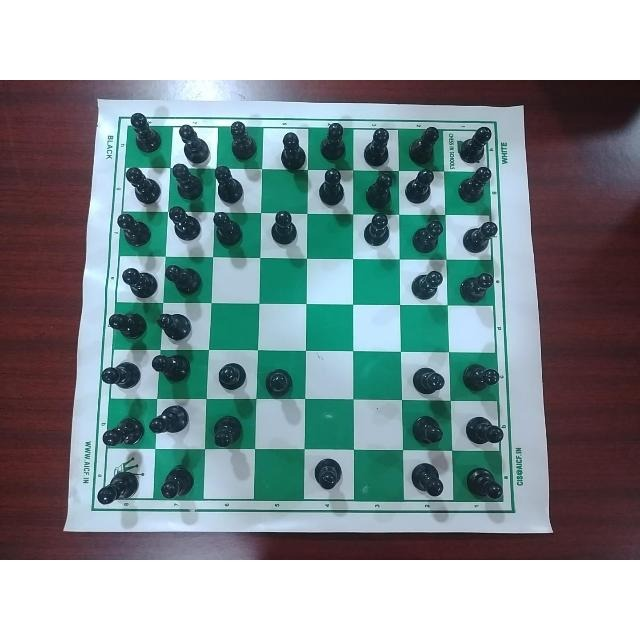black-pawn: (101, 414, 145, 454), (94, 469, 144, 504), (461, 464, 505, 500), (123, 167, 163, 206), (159, 460, 196, 502), (127, 111, 163, 154), (409, 408, 447, 448), (463, 413, 505, 449), (149, 402, 191, 438), (167, 205, 205, 244), (114, 211, 155, 247), (169, 163, 206, 202), (176, 124, 212, 164), (210, 164, 246, 204), (100, 358, 144, 390), (149, 351, 193, 383), (411, 459, 447, 498), (460, 361, 501, 395), (267, 208, 300, 250), (209, 209, 245, 247), (163, 261, 203, 295), (120, 263, 160, 297), (226, 119, 258, 161), (459, 218, 497, 253), (316, 124, 349, 164), (459, 164, 491, 205), (408, 218, 443, 255), (309, 454, 344, 491), (408, 126, 441, 165), (460, 124, 492, 164), (314, 167, 345, 208), (277, 131, 307, 173), (364, 170, 396, 209), (402, 168, 437, 203), (411, 364, 447, 398), (212, 410, 245, 447), (158, 309, 194, 342), (107, 311, 149, 339), (460, 269, 494, 303), (410, 267, 443, 301), (264, 364, 296, 399), (362, 212, 392, 249), (363, 126, 391, 165), (215, 360, 250, 391)
